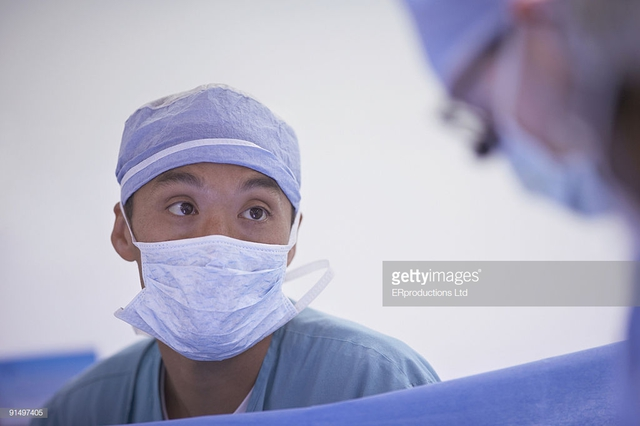mask: (138, 252, 284, 350)
